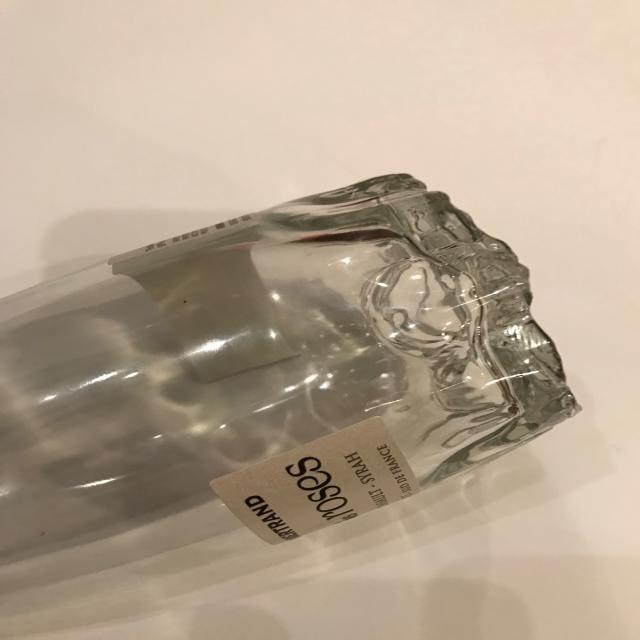glass: (2, 171, 584, 640)
